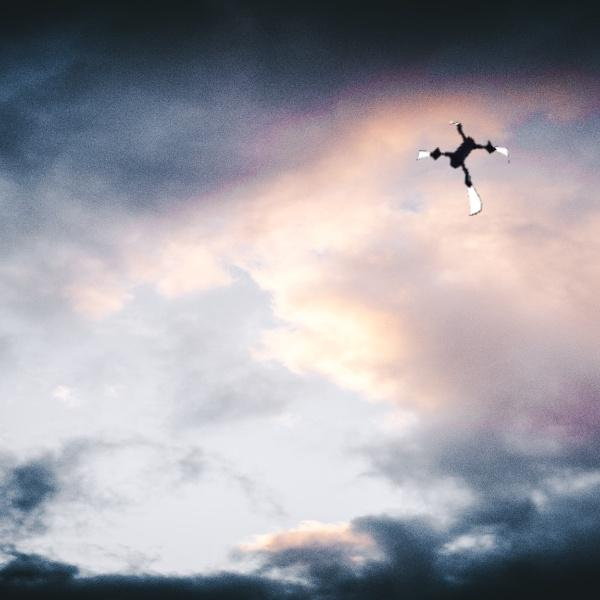drone: (412, 116, 517, 221)
